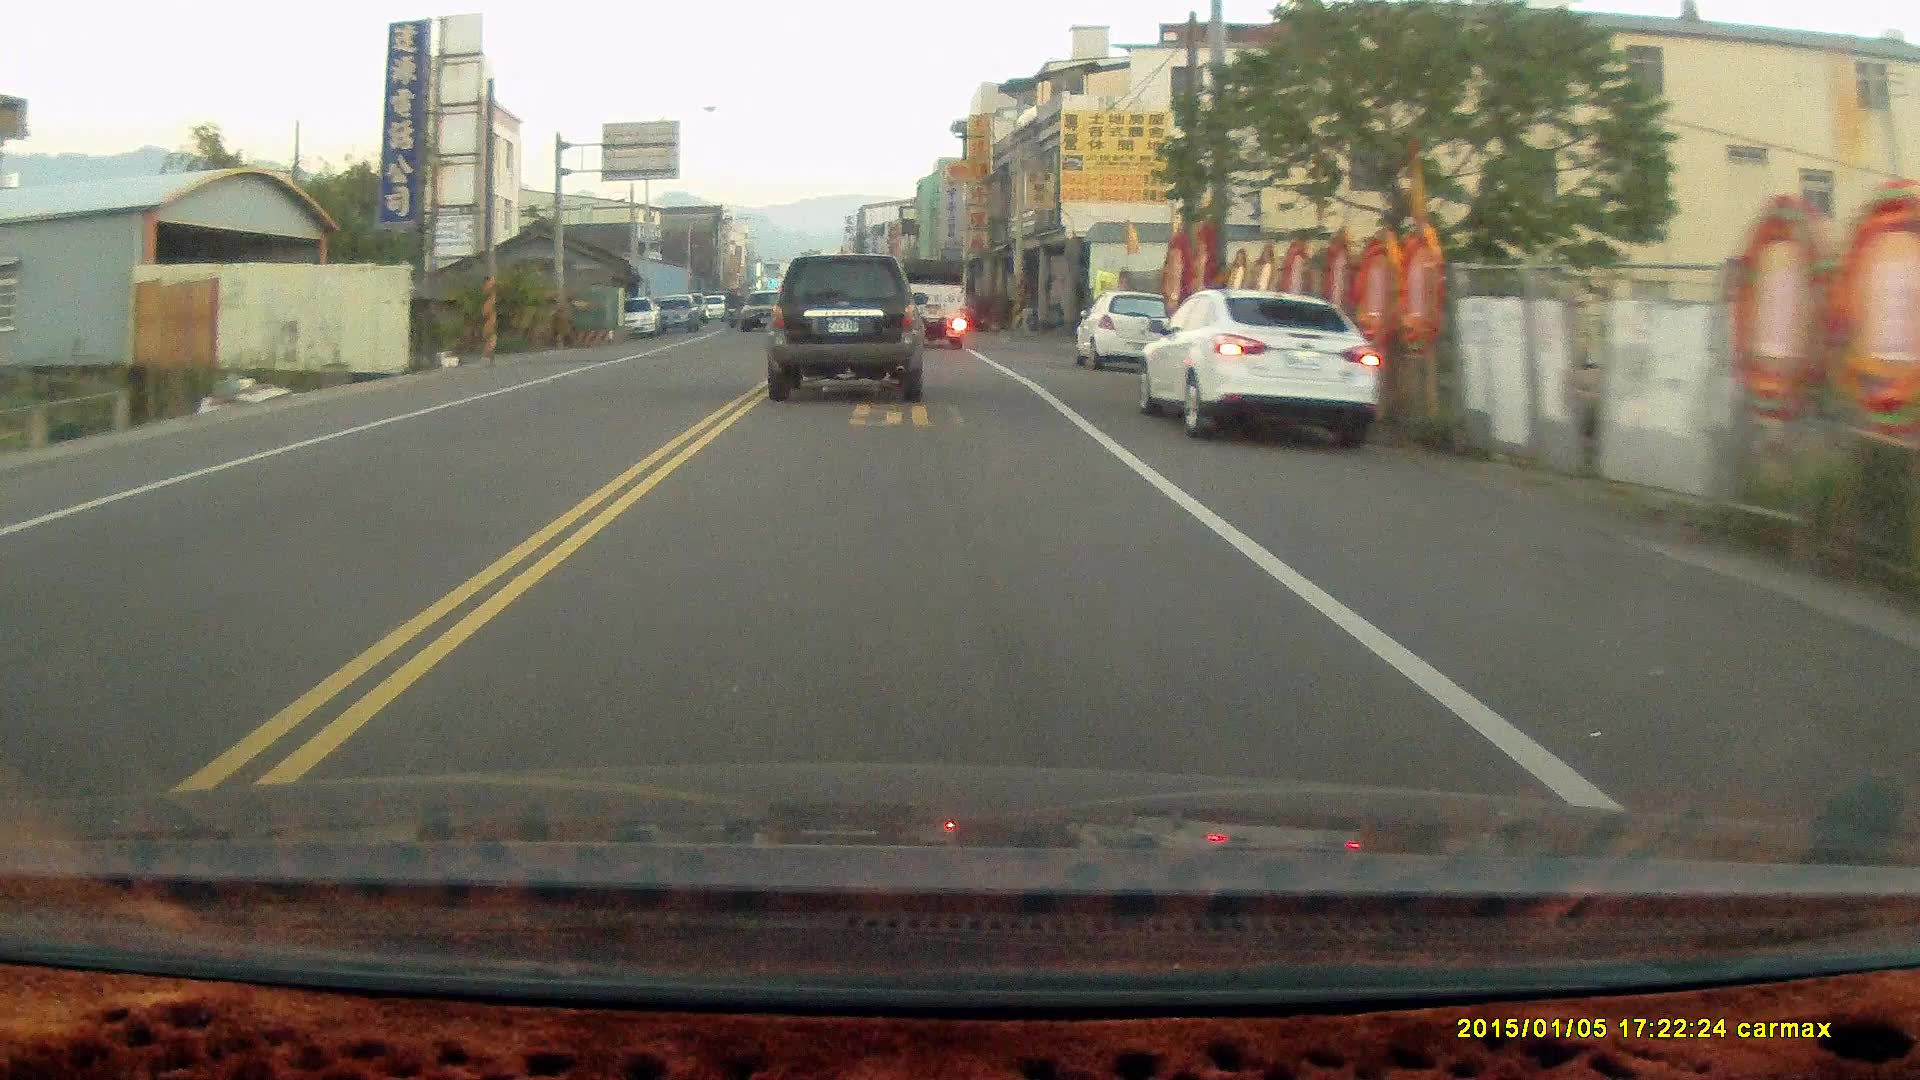vehicle: (1139, 290, 1381, 440), (767, 255, 928, 404), (1077, 291, 1176, 373), (895, 255, 971, 349)
